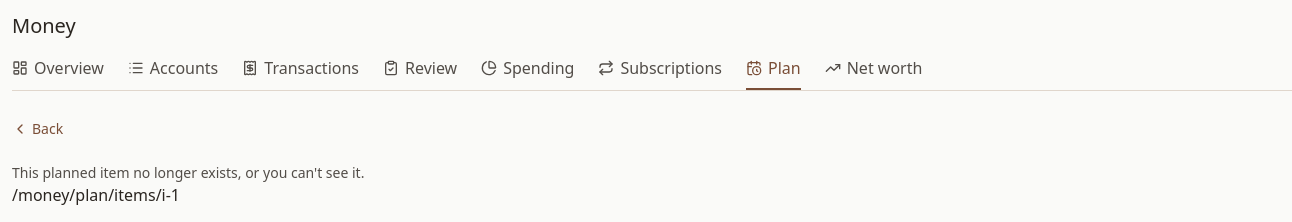
Test: goes back from an item opened in Review to Review
Click the button "Back" at (38, 129), box [12, 107, 63, 151]
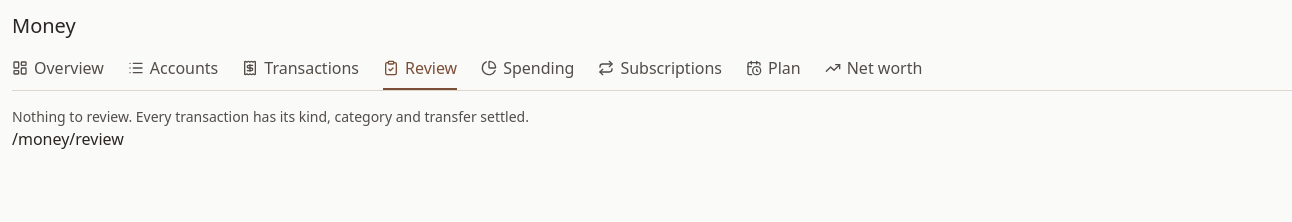
Now the text with test id "where" reads "/money/review", box [12, 128, 124, 150]
